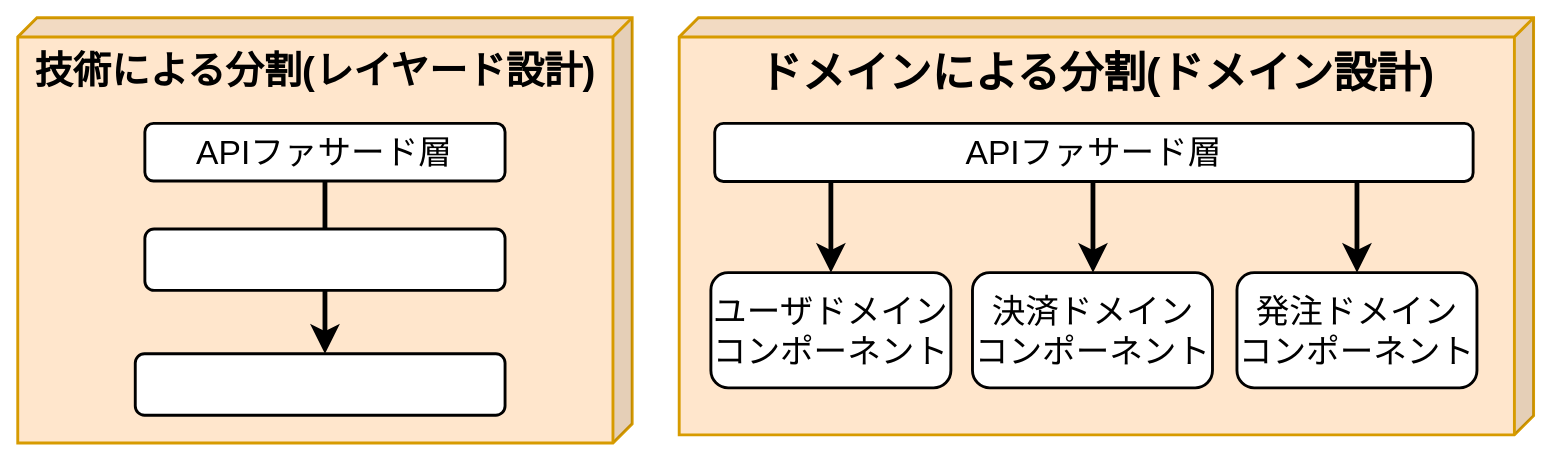
This 1551x461 diagram has some shape labels left out. The shapes that lost their labels are listed below. From the top down, each one's centre as x and y in pixels, then its label:
the point at 324,259: ビジネス層
the point at 319,384: 永続化層
